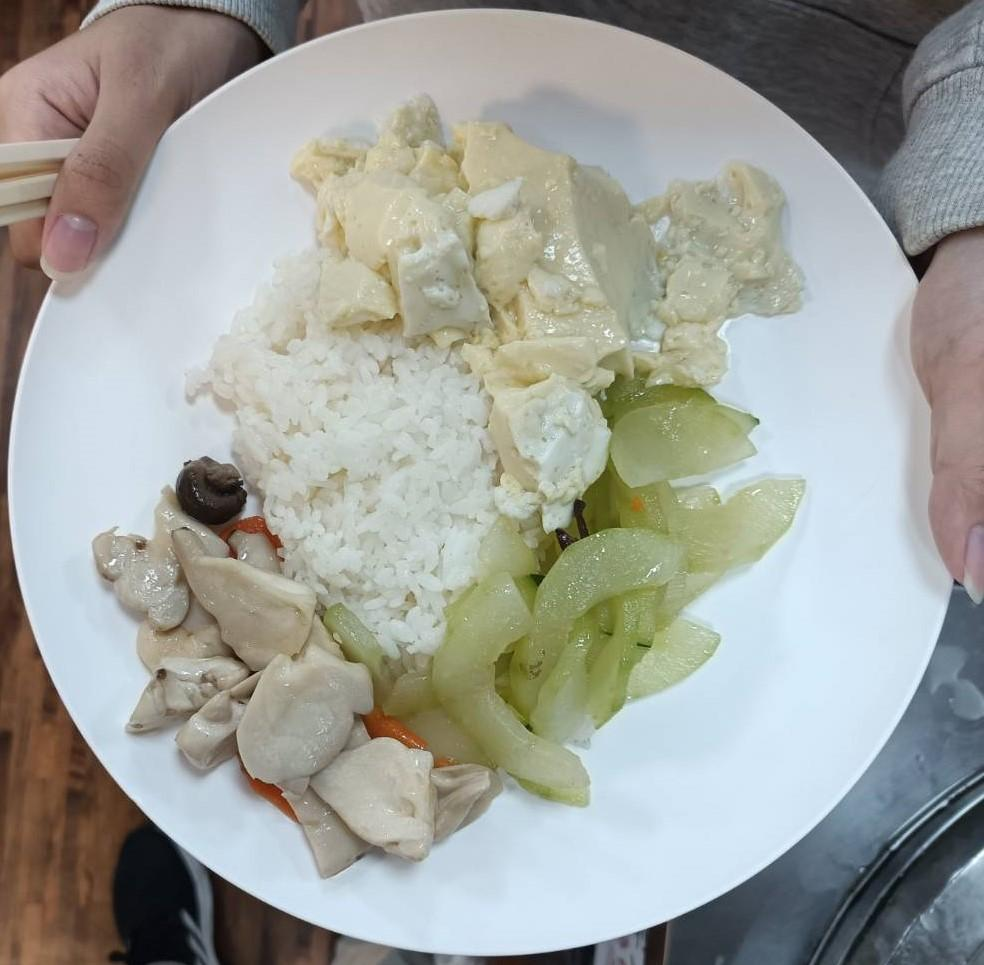big fried chicken leg: (16, 20, 975, 943)
big herbal chicken leg: (208, 294, 496, 646)
braised fish fillet: (394, 380, 794, 805), (89, 461, 485, 868), (288, 114, 805, 388)
